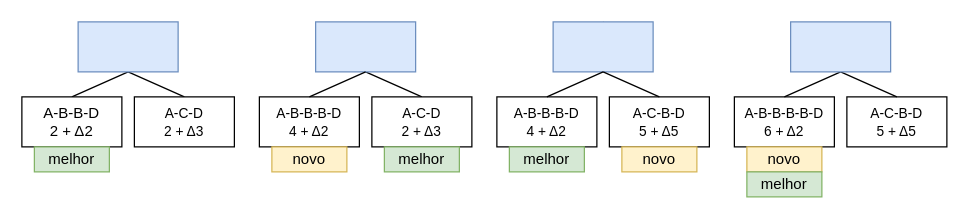
The diagram is 969 pixels wide and 219 high, and some of its shapes have lost their labels. The centre of each missing label's shape, as x and y in pixels:
"A-B-B-B-D 6" belongs at (840,46).
"A-B-B-D 4" belongs at (365,46).
"A-B-D 2" belongs at (127,46).
"A-C-D 5" belongs at (602,46).
